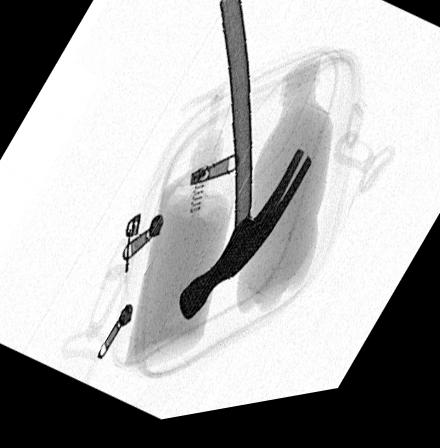Hammer: (178, 0, 314, 327)
